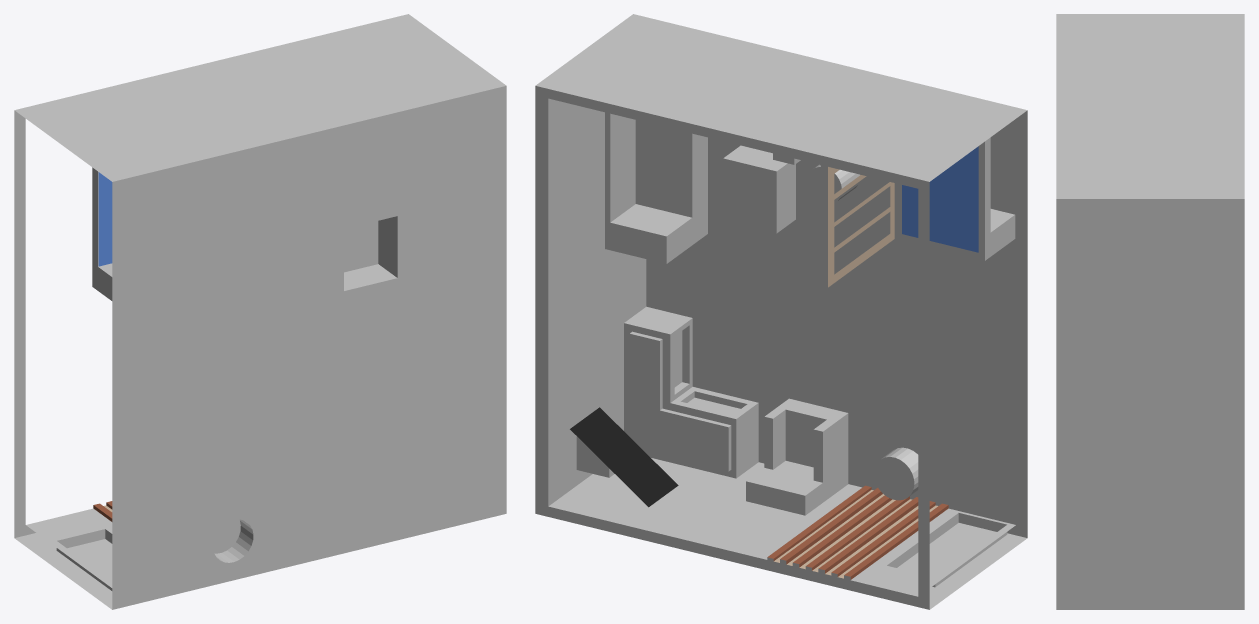
The model's file is Room.obj.
3 views of the same model, side by side, from view 1: azimuth 30°, elevation 25°; view 2: azimuth 150°, elevation 25°; view 3: azimuth 270°, elevation 25° (orthographic). The views are drawn at different scales.
Visible parts, largest first — view 1: obj91, obj2, obj83, obj97, obj90, obj92, obj98, obj68, obj100, obj1, obj75, obj22 (+10 smaller); view 2: obj91, obj2, obj83, obj4, obj98, obj122, obj115, obj97, obj155, obj33, obj85, obj22 (+28 smaller); view 3: obj3, obj2.
Boxes of the visible parts, <box> form: obj91: <box>123,145,493,596</box>; obj2: <box>14,14,506,181</box>; obj83: <box>242,190,418,455</box>; obj97: <box>112,86,506,609</box>; obj90: <box>336,98,493,305</box>; obj92: <box>381,378,493,533</box>; obj98: <box>14,110,35,537</box>; obj68: <box>291,470,350,555</box>; obj100: <box>26,508,112,587</box>; obj1: <box>14,533,112,609</box>; obj75: <box>304,137,335,204</box>; obj22: <box>344,221,378,272</box>; obj91: <box>646,119,1016,524</box>; obj2: <box>535,14,1027,181</box>; obj83: <box>721,141,897,383</box>; obj4: <box>548,98,646,506</box>; obj98: <box>535,86,929,609</box>; obj122: <box>548,458,861,559</box>; obj115: <box>629,334,728,471</box>; obj97: <box>1007,110,1027,537</box>; obj155: <box>902,146,978,252</box>; obj33: <box>635,120,692,217</box>; obj85: <box>570,407,678,507</box>; obj22: <box>723,158,776,233</box>; obj3: <box>1056,199,1244,609</box>; obj2: <box>1056,14,1244,198</box>.
Bounding box in the file's own units: 1624278 × 1684666 × 699350.
